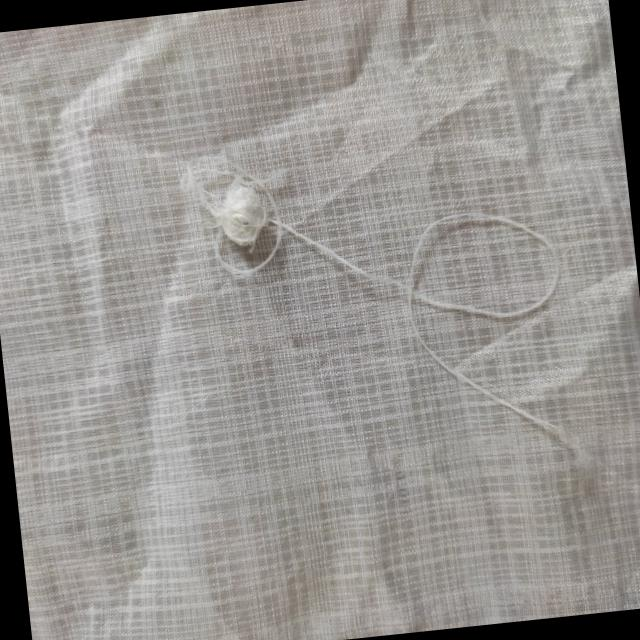Thread: (175, 118, 580, 476)
